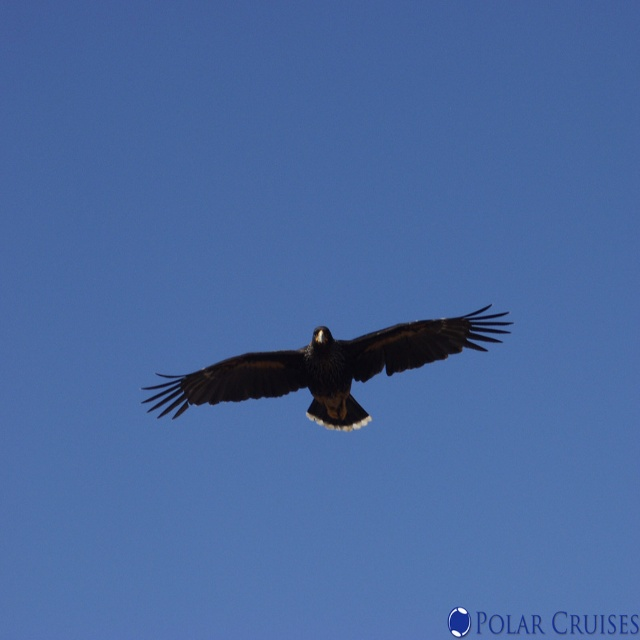Eagle: (138, 303, 514, 430)
